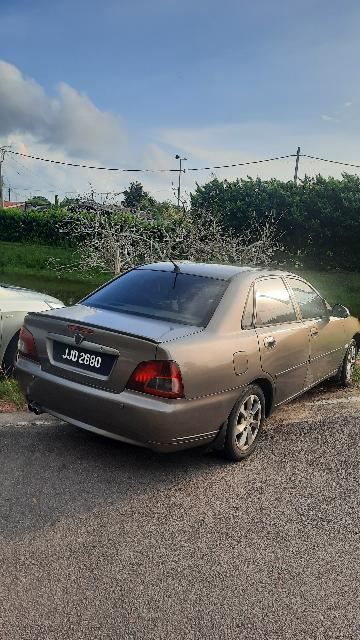License_Plate: (51, 341, 117, 379)
car: (19, 266, 349, 460), (1, 285, 71, 378)
